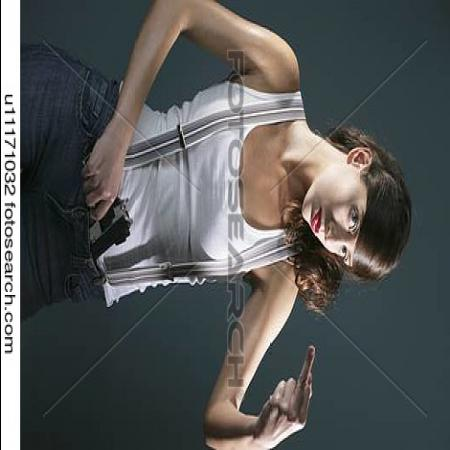Pistol: (72, 178, 135, 262)
